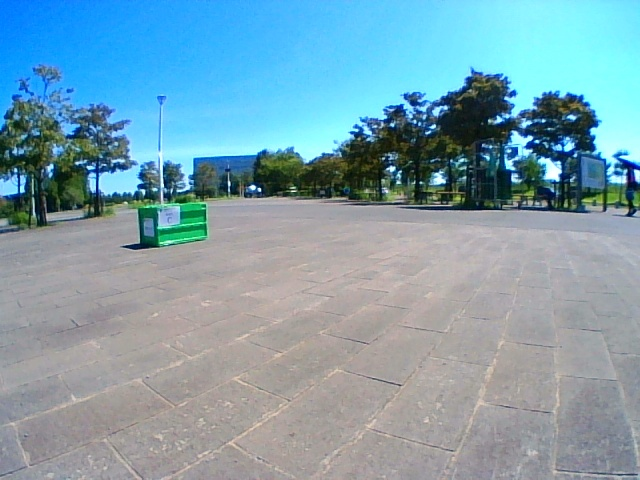green_box: (139, 202, 207, 248)
tag: (159, 208, 179, 225)
